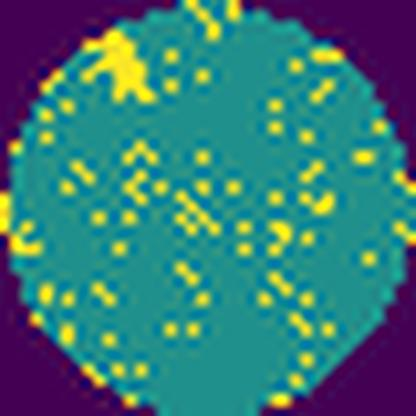Edge-Loc: (81, 32, 156, 104)
